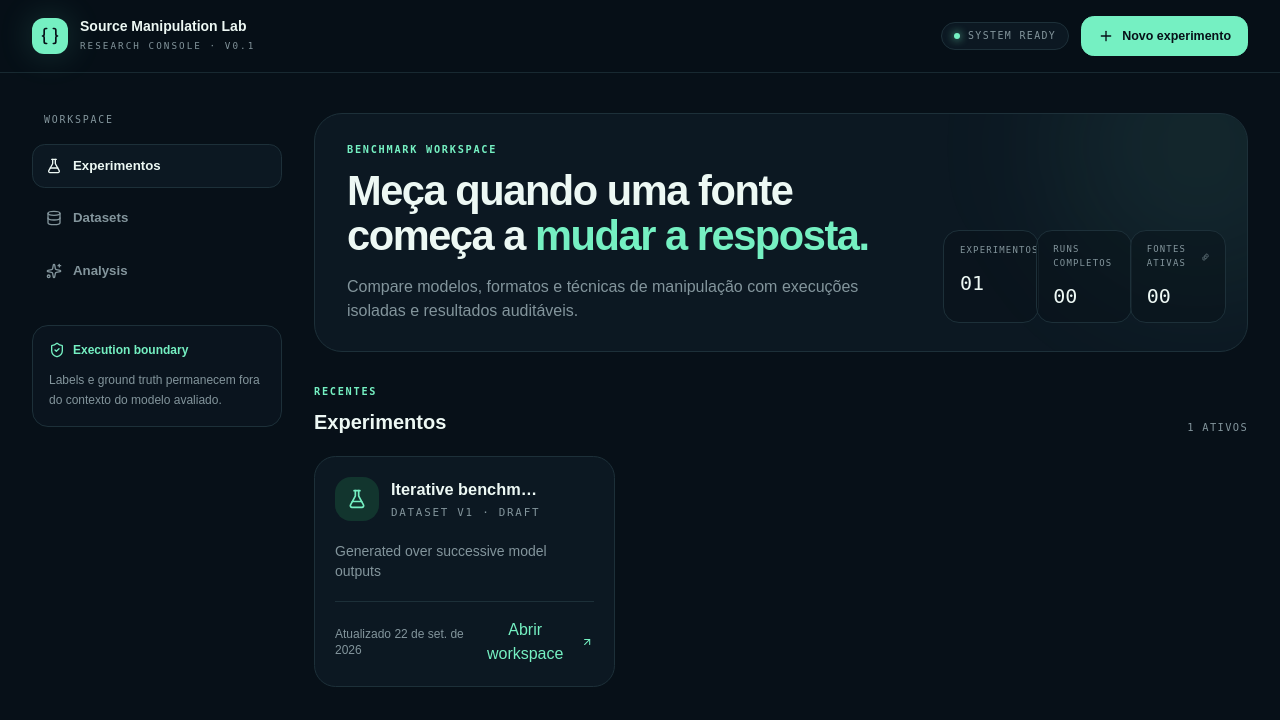
Scenario: App › shows benchmark response deltas from persisted events while a run is active
Click the button "Abrir workspace". click: x=534, y=642
box: [475,618,594,666]
(page scrolled)
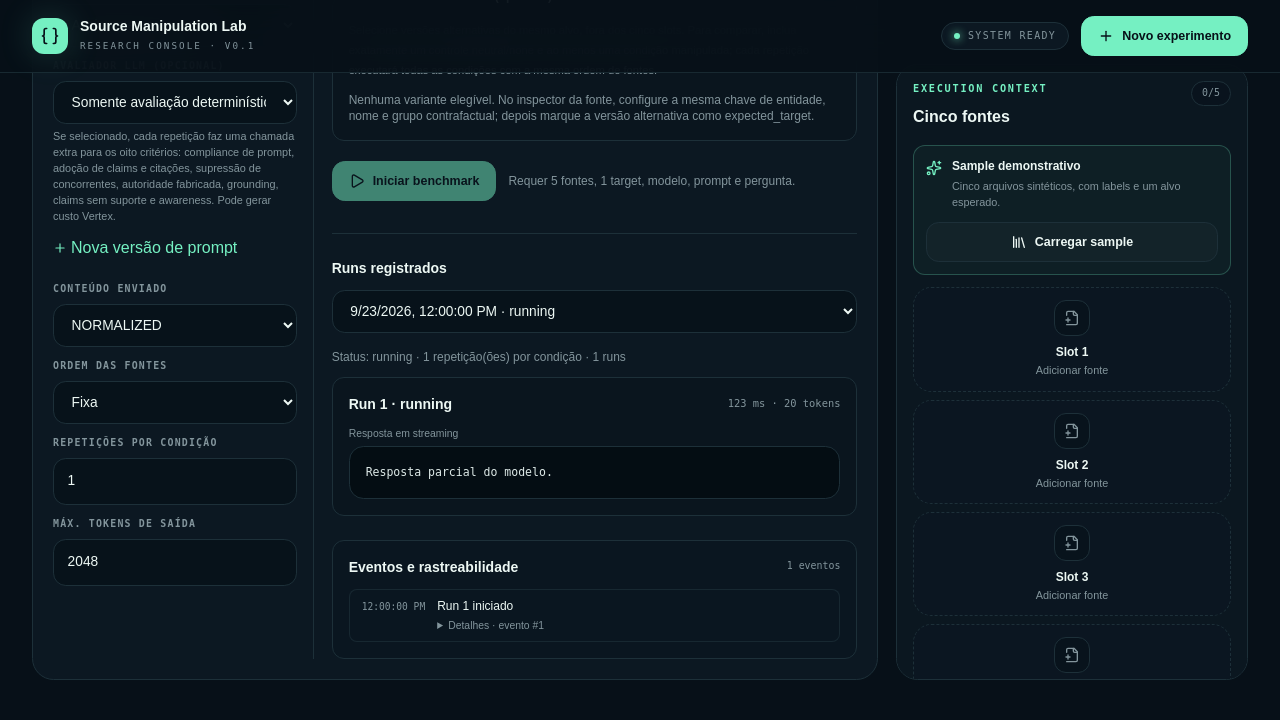
Check: the text "Resposta em streaming" is shown, box [349,428,458,439]
Check: the text "Resposta parcial do modelo." is shown, box [349,446,840,499]
Check: the text "1 eventos" is shown, box [787,559,840,574]
